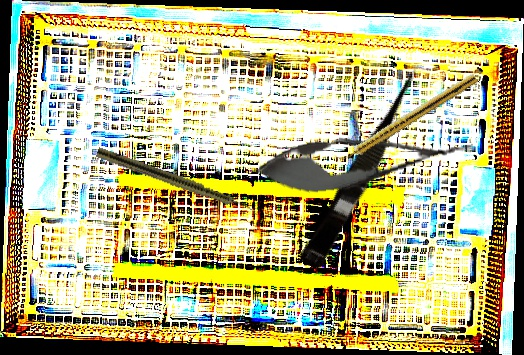Handpiece: (334, 70, 479, 168), (94, 146, 261, 218)
Micro Scissor: (297, 63, 432, 274), (253, 120, 477, 201)
